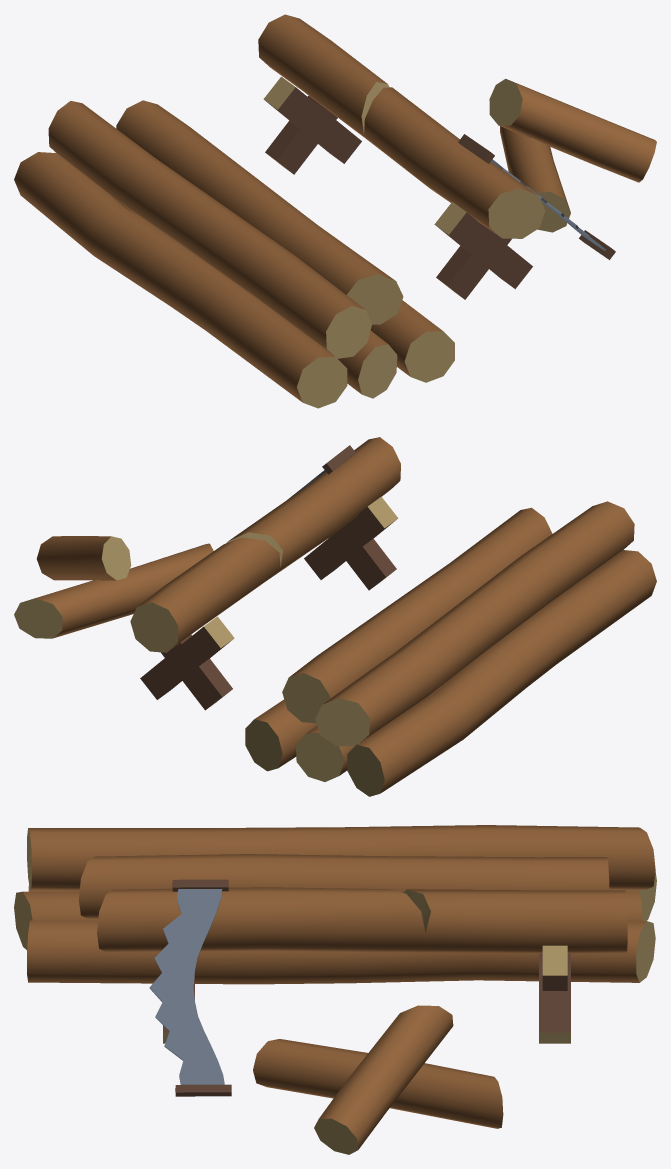
Rendered from sawmill.glb.
3 views of the same model, one above another, from view 1: azimuth 30°, elevation 25°; view 2: azimuth 150°, elevation 25°; view 3: azimuth 270°, elevation 25° (orthographic). The views are drawn at different scales.
Parts seen in each view (by area): view 1: Environment_Sawmill; view 2: Environment_Sawmill; view 3: Environment_Sawmill.
Boxes of the visible parts, bbox=[...] form: Environment_Sawmill: bbox=[14, 14, 656, 408]; Environment_Sawmill: bbox=[14, 437, 656, 796]; Environment_Sawmill: bbox=[14, 825, 656, 1154].
Bounding box in the file's own units: 2.07 × 0.5934 × 2.06.
1 material, 1 textured.
